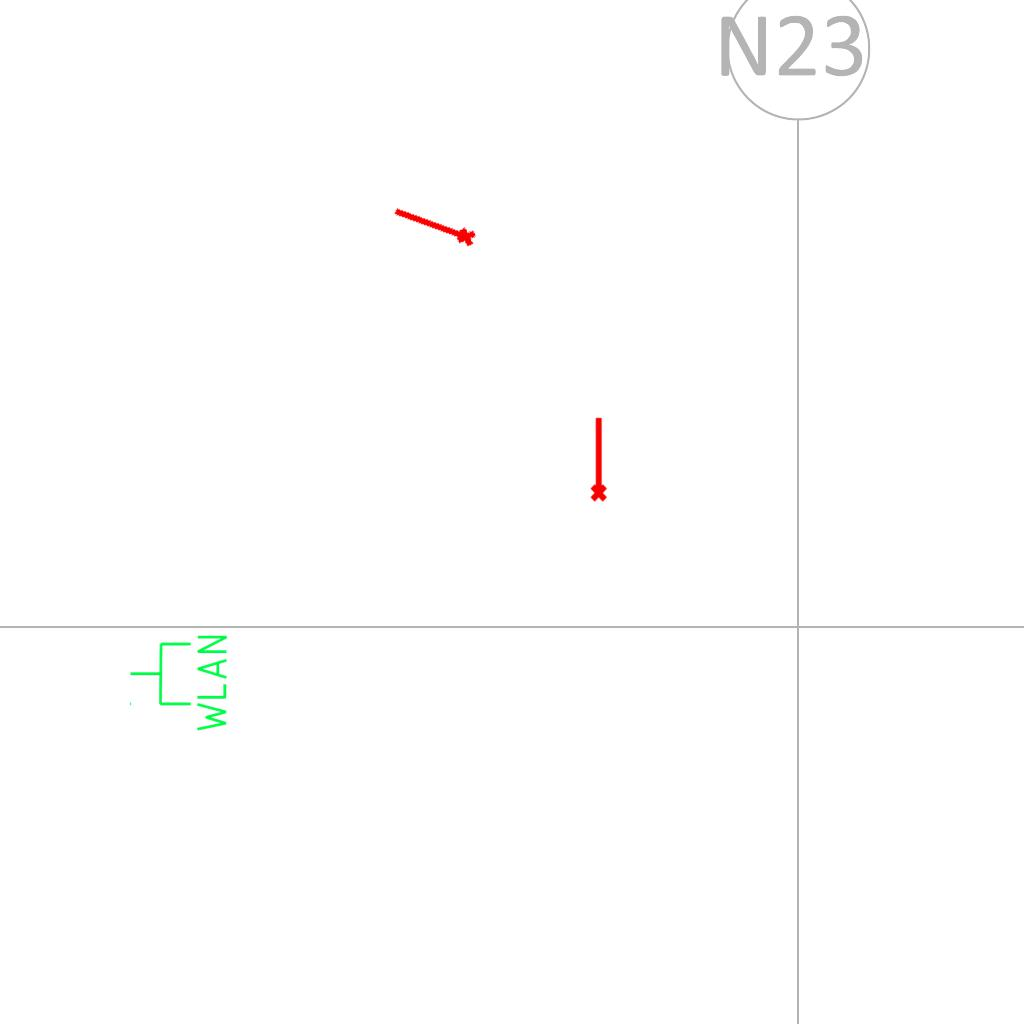ASR_Ansaugoeffnung: (388, 200, 480, 253), (586, 415, 609, 503)
WLAN: (127, 631, 231, 736)
